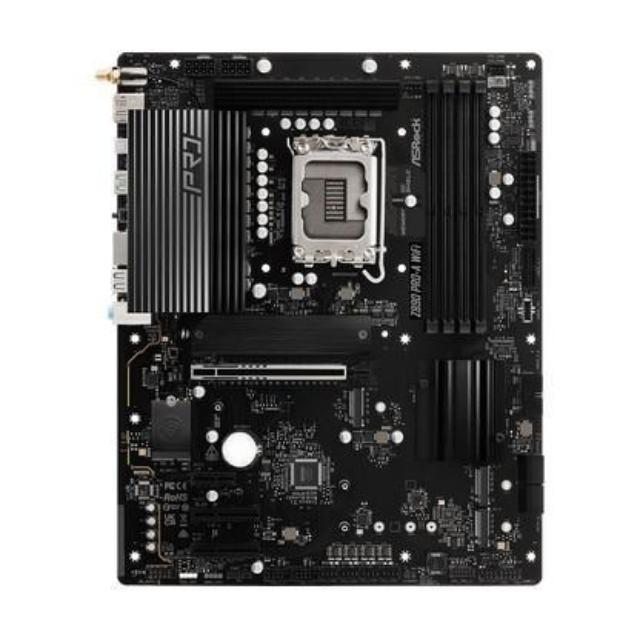Mainboard: (96, 41, 548, 596)
